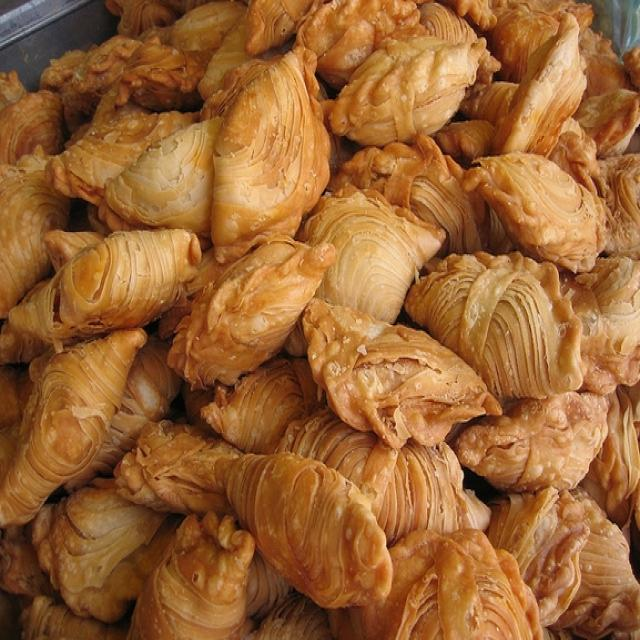炸货点心: (21, 28, 623, 605)
